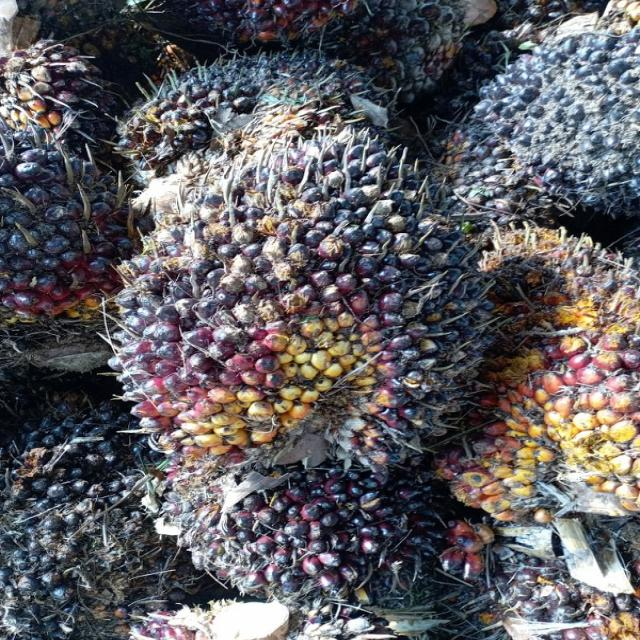fraksi 00: (128, 150, 474, 454), (0, 393, 160, 639), (452, 23, 640, 219), (120, 42, 384, 178), (175, 466, 418, 604)
fraksi 3: (443, 227, 640, 522)
